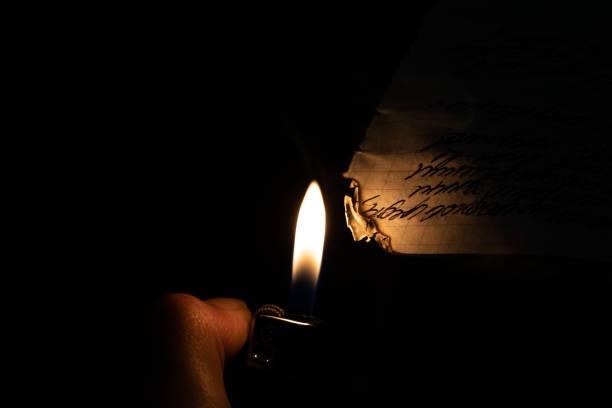Fire: (284, 173, 330, 291)
